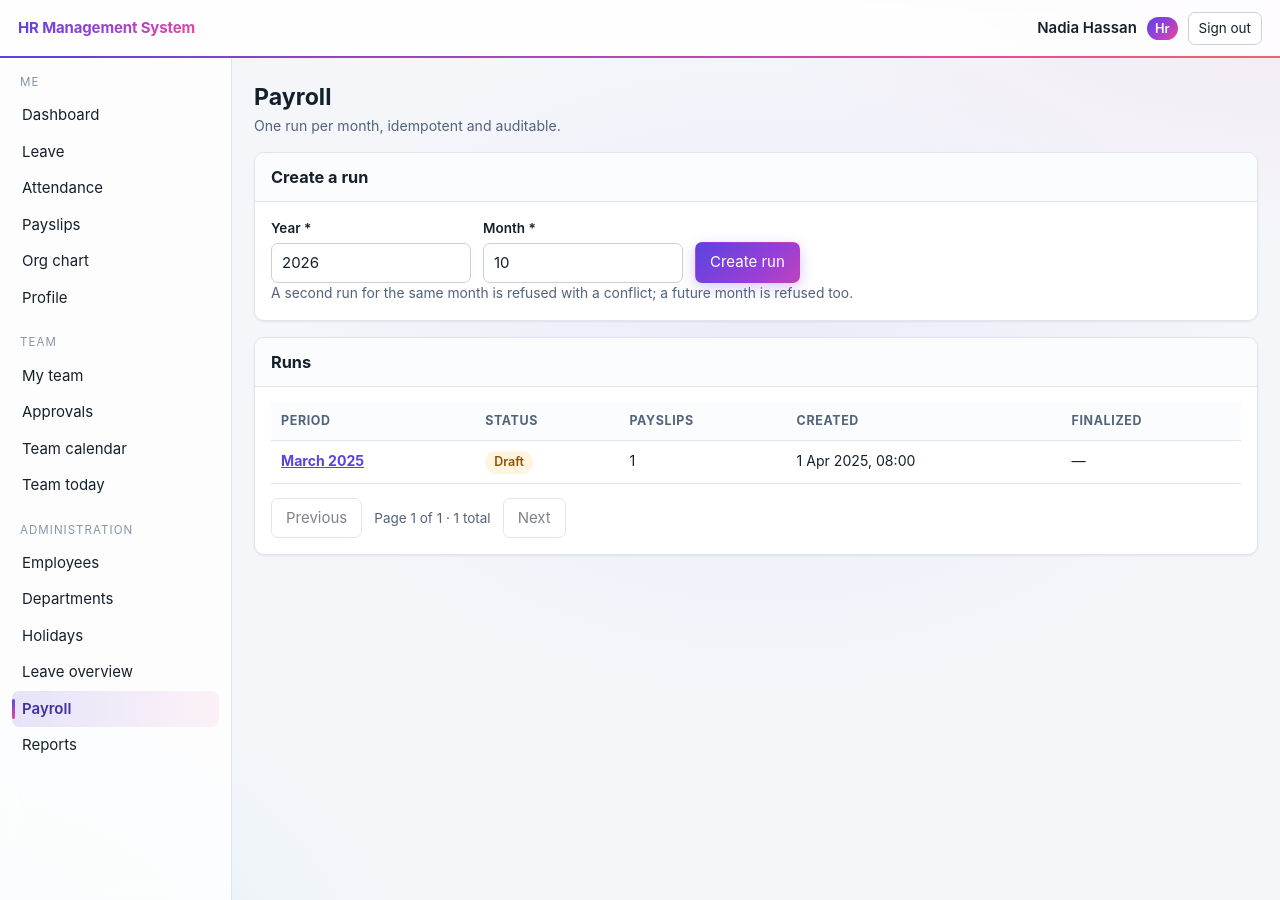
it: payroll runs › creates a run and opens the new run detail
This screenshot has width=1280, height=900.
Replace the text in the number field labelled "Year *" with "2025" at (371,263), box [271,243,471,283]
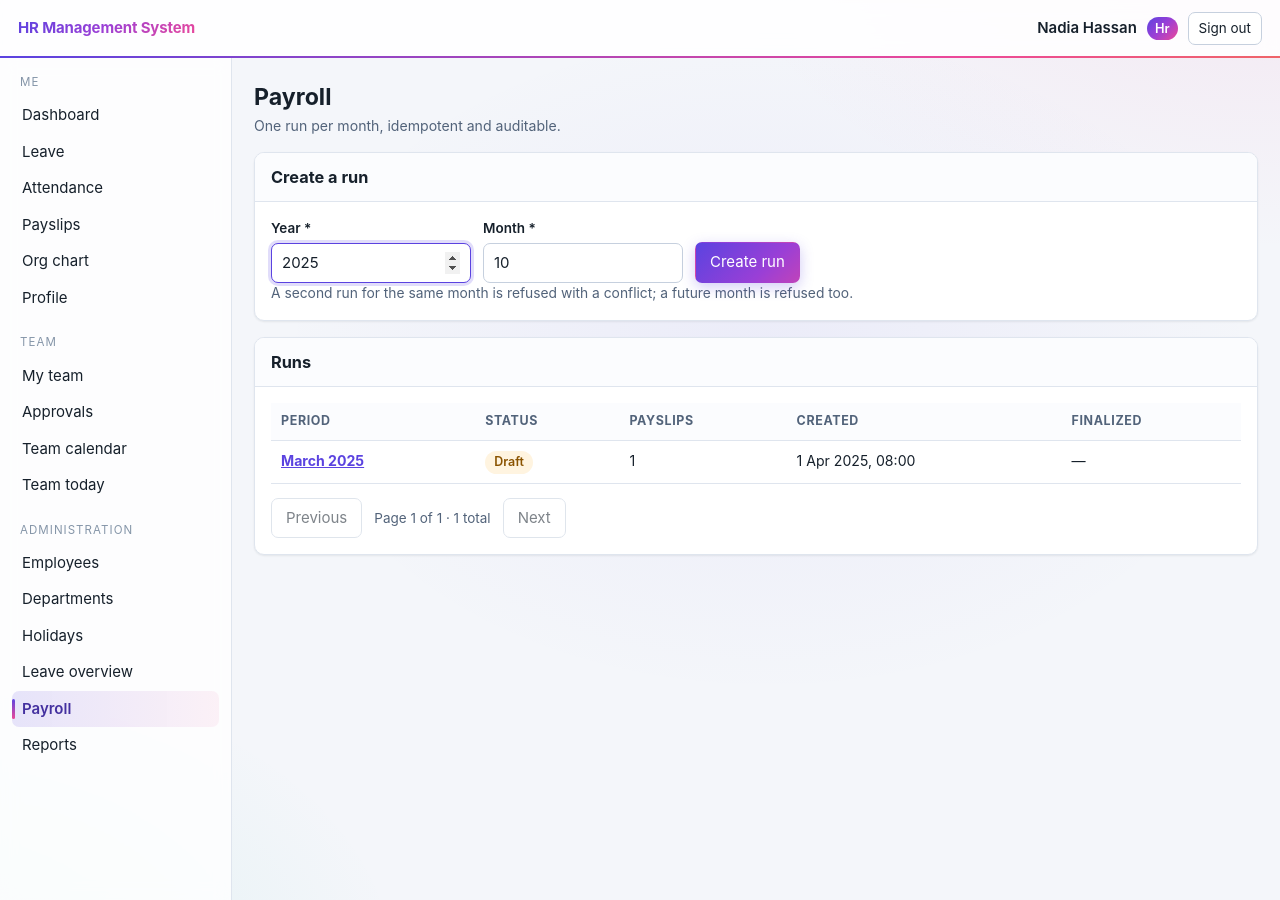
Replace the text in the number field labelled "Month *" with "3" at (583,263), box [483,243,683,283]
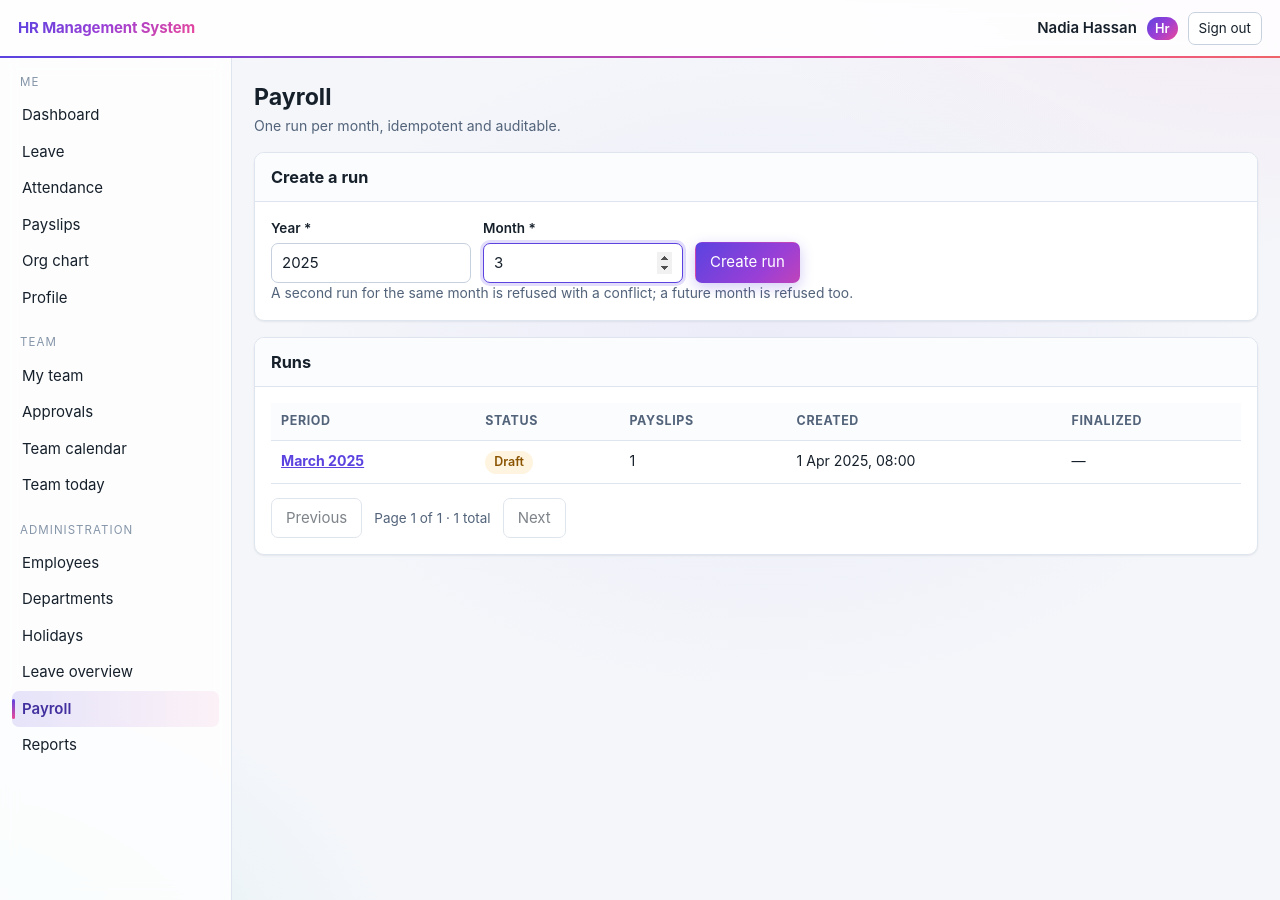
Click the button "Create run" at (747,263), box [695,242,800,283]
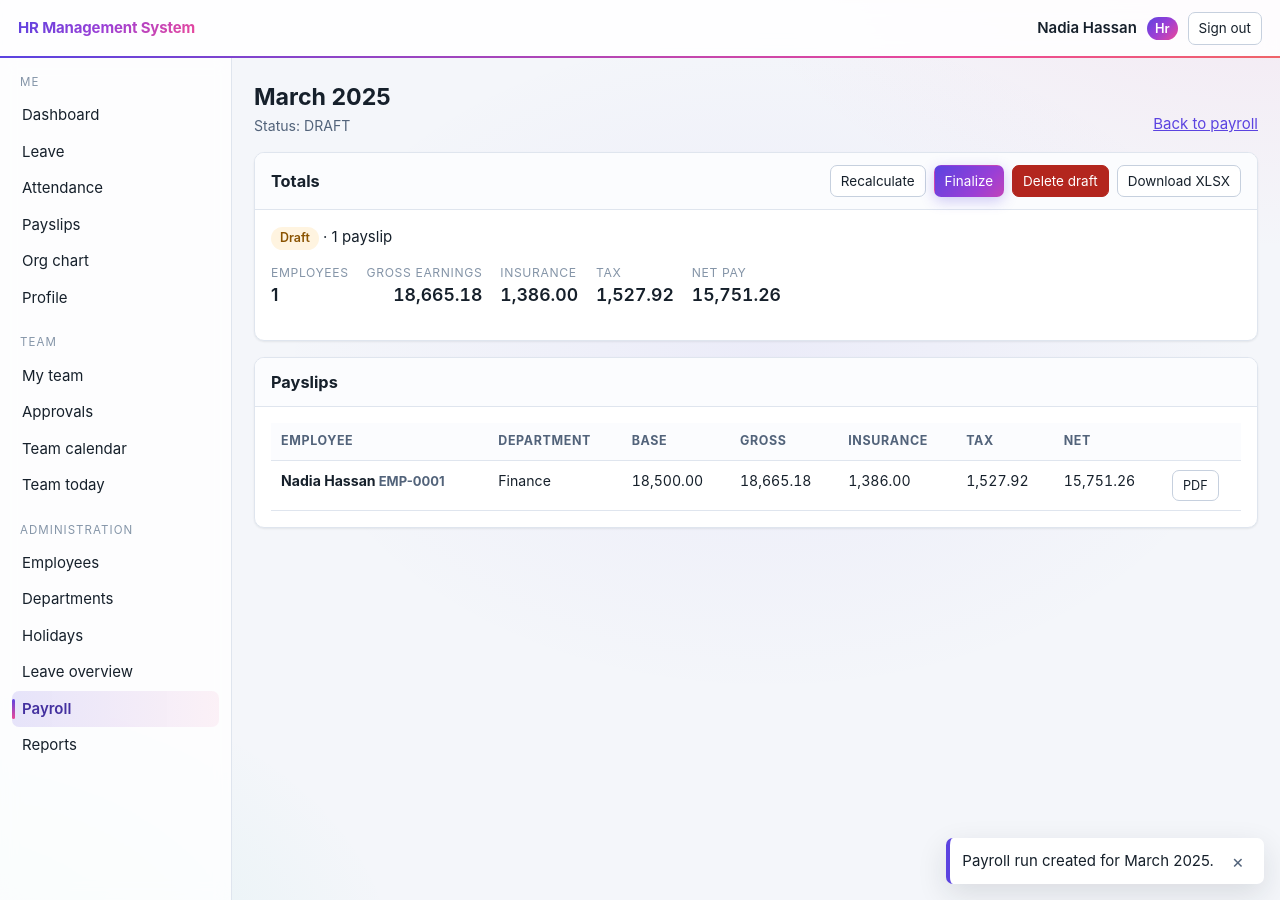
Expected: the heading "Totals" is shown, [271,169,320,193]
